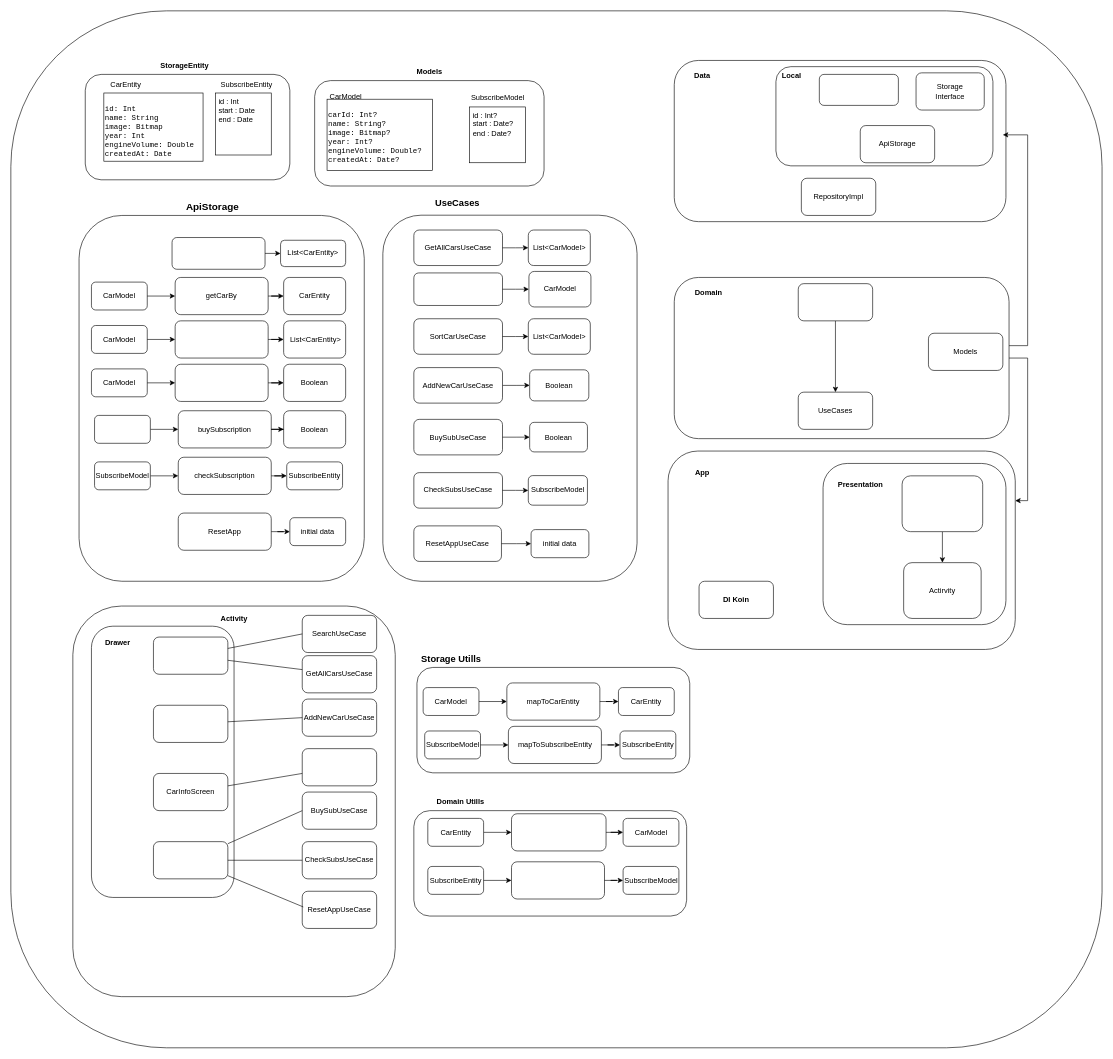
Some shapes in this 1113 by 1059 pixel diagram are drawn without their labels. Here are the shapes that lost their labels. From the top down, the centre of each, then its label:
At [858,89]: "StorageEntitys".
At [218,253]: "getAllCars".
At [458,288]: "GetCarByUseCase".
At [835,302]: "Repository".
At [221,339]: "sortCarBy".
At [221,382]: "addNewCar".
At [122,429]: "EndDate".
At [942,503]: "ViewModel".
At [190,655]: "MainScreen".
At [190,723]: "AddScreen".
At [339,767]: "CarInfoUseCase".
At [558,832]: "mapToCarModell".
At [190,860]: "SettingsScreen".
At [557,880]: "mapToSubscribeModel".
